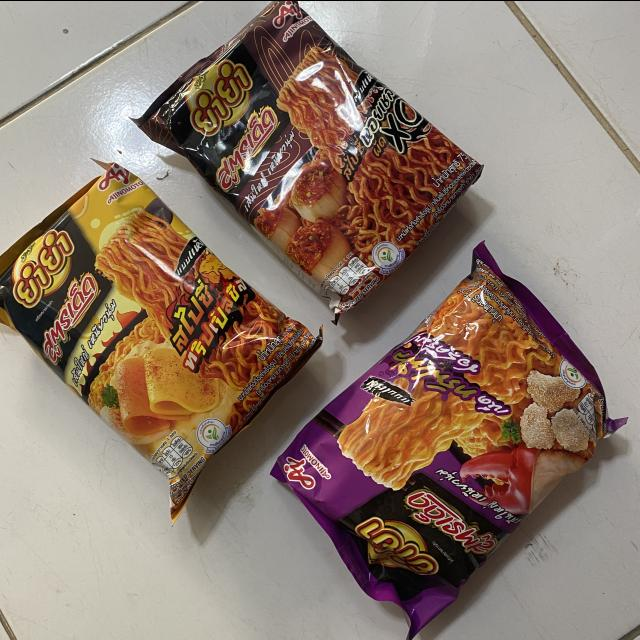plastik: (272, 242, 622, 640), (0, 162, 322, 519), (133, 0, 482, 318)
